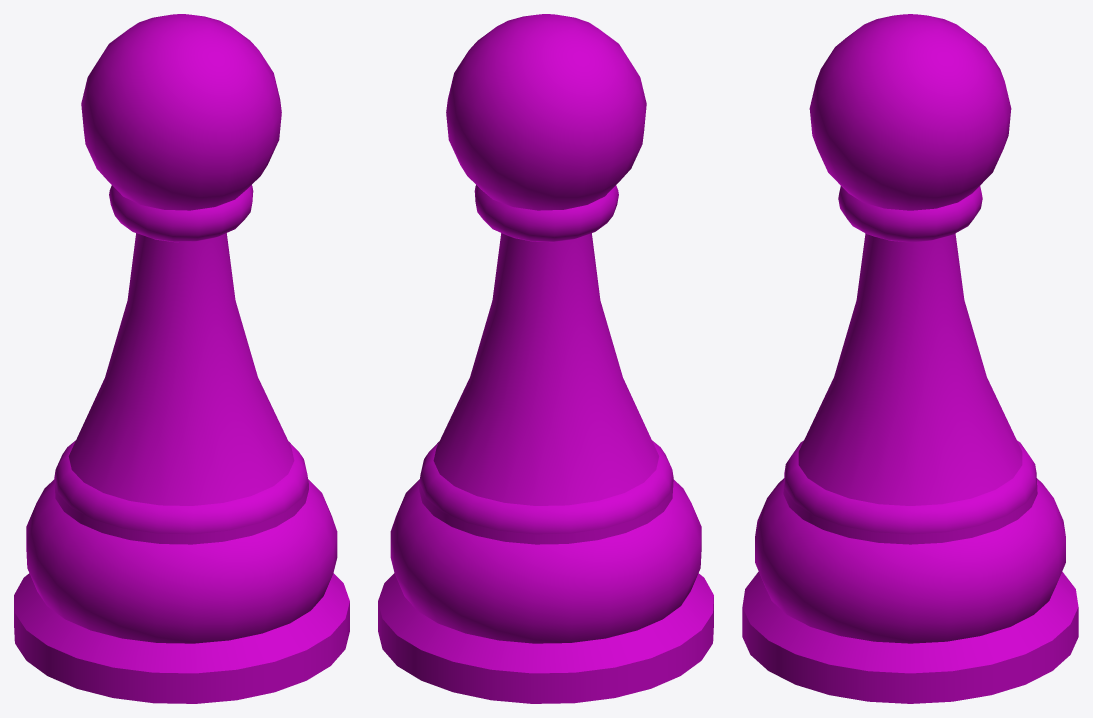
The model's file is pawn.glb.
3 renders of one model, left to right at view 1: azimuth 30°, elevation 25°; view 2: azimuth 150°, elevation 25°; view 3: azimuth 270°, elevation 25°, orthographic.
Bounding box in the file's own units: 0.0262 × 0.0526 × 0.0263.
